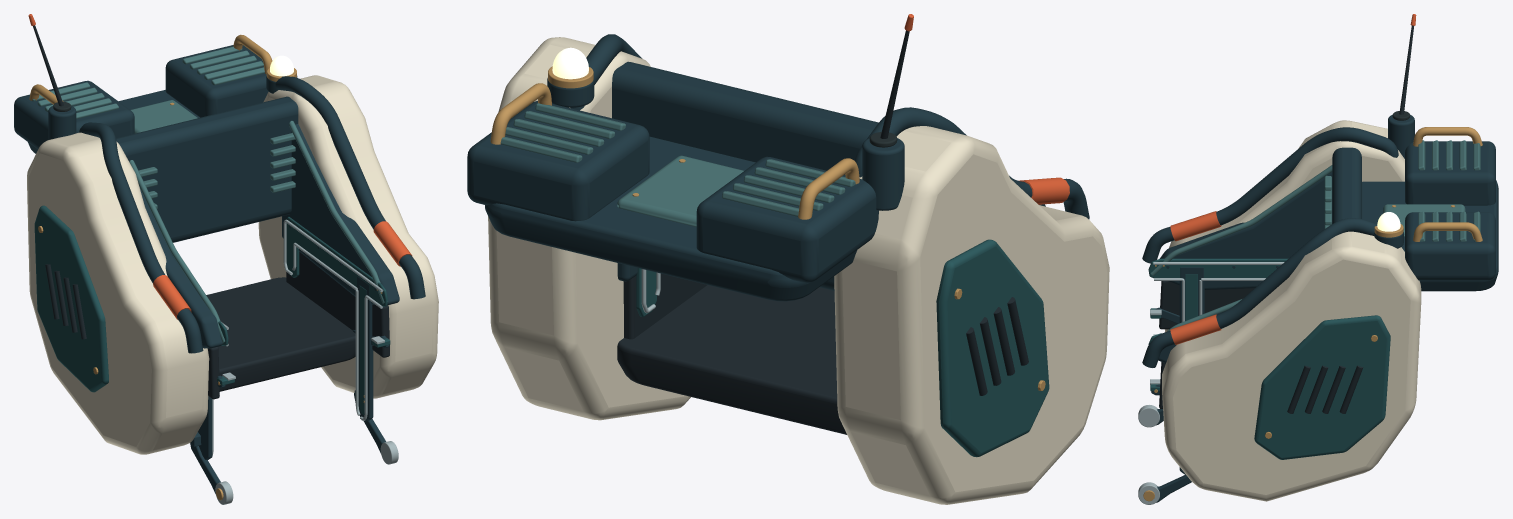
Rendered from SM_Mk2_Body_Seated_Surround.fbx.
The picture shows the model from 3 angles, left to right: view 1: azimuth 30°, elevation 25°; view 2: azimuth 150°, elevation 25°; view 3: azimuth 270°, elevation 25°; orthographic projection. The views are drawn at different scales.
Visible parts, largest first — view 1: SM_Mk2_Body_Seated_Surround; view 2: SM_Mk2_Body_Seated_Surround; view 3: SM_Mk2_Body_Seated_Surround.
Boxes of the visible parts, left/top/right/bottom form: SM_Mk2_Body_Seated_Surround: left=14, top=14, right=438, bottom=504; SM_Mk2_Body_Seated_Surround: left=467, top=14, right=1109, bottom=504; SM_Mk2_Body_Seated_Surround: left=1138, top=14, right=1498, bottom=504.
Bounding box in the file's own units: 92.4 × 99.05 × 117.
